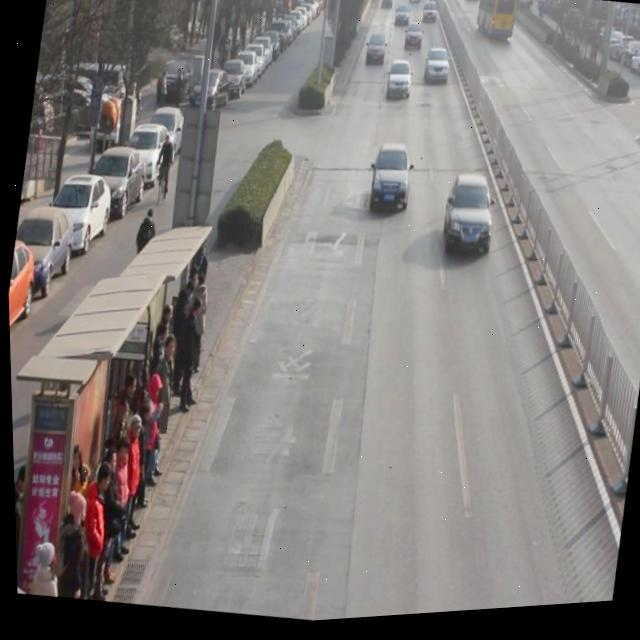car: (438, 175, 501, 266), (366, 143, 417, 220), (384, 61, 415, 108), (422, 49, 454, 92), (364, 35, 390, 73), (404, 23, 426, 58)
